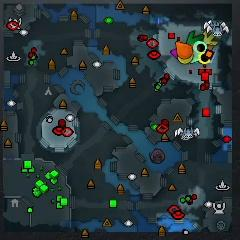p2: (190, 52, 200, 64)
p2Clone: (195, 41, 207, 54)
p3: (171, 48, 179, 60)
p4: (177, 55, 193, 63)
p4Clone: (199, 53, 211, 64)
p5: (176, 42, 193, 59)
x2: (203, 31, 219, 46)
x4: (186, 30, 204, 45)
x5: (207, 45, 214, 52)
